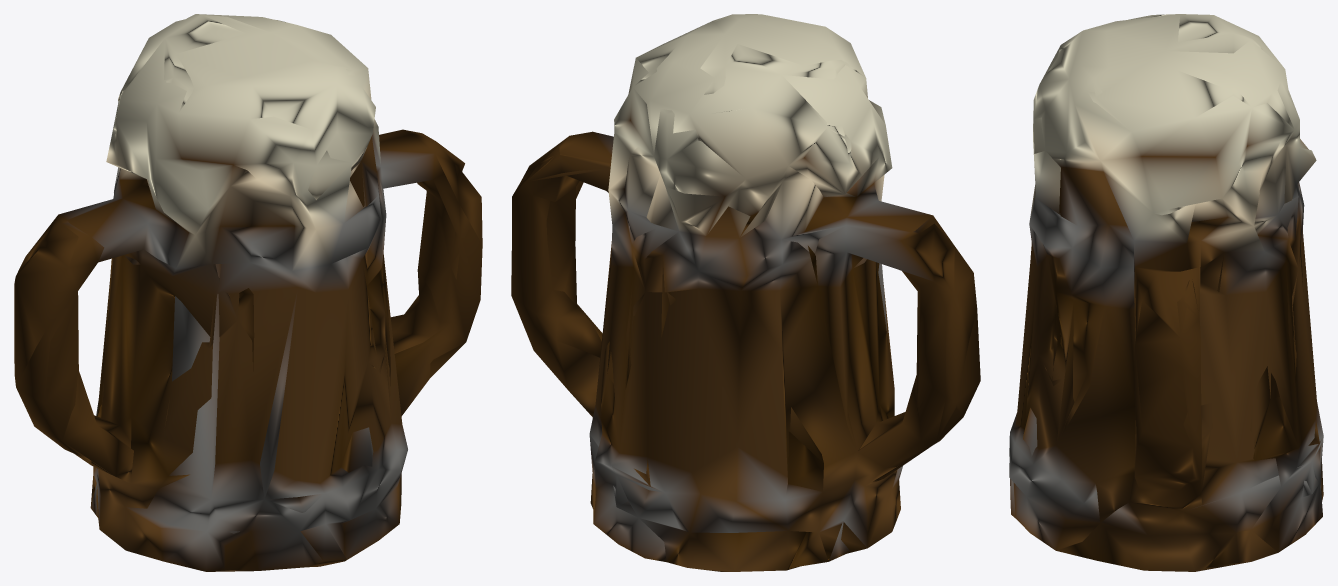
Rendered from gen3d-tankard-lod0.glb.
3 renders of one model, left to right at view 1: azimuth 30°, elevation 25°; view 2: azimuth 150°, elevation 25°; view 3: azimuth 270°, elevation 25°, orthographic.
Visible parts, largest first — view 1: part_0; view 2: part_0; view 3: part_0.
Part boxes in pixels (<box>): part_0: <box>14,14,482,571</box>; part_0: <box>511,14,980,571</box>; part_0: <box>1009,14,1323,571</box>.
Bounding box in the file's own units: 0.9721 × 0.9966 × 0.6023.
